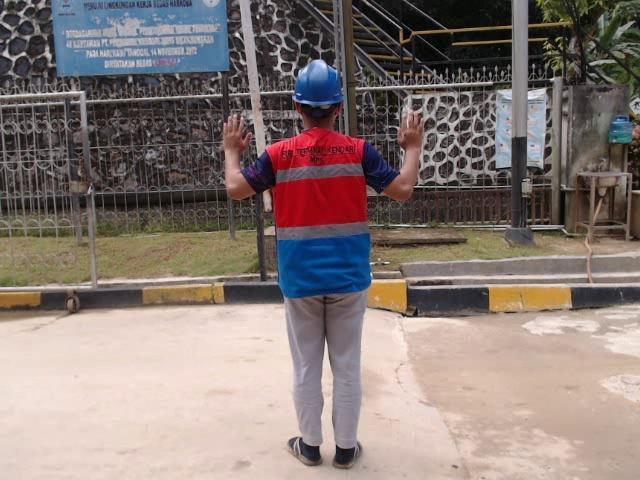helmet: (290, 57, 345, 106)
